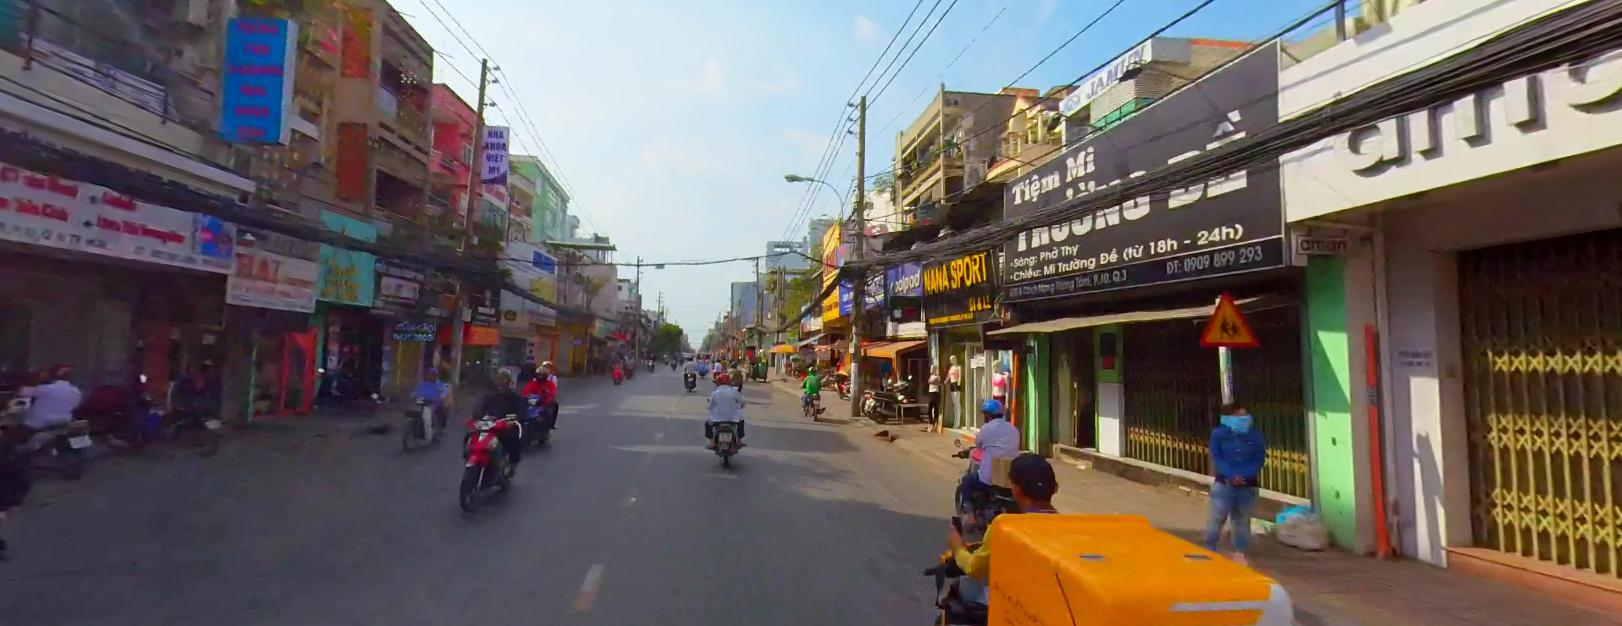Nguy hiem: (1197, 288, 1262, 347)
